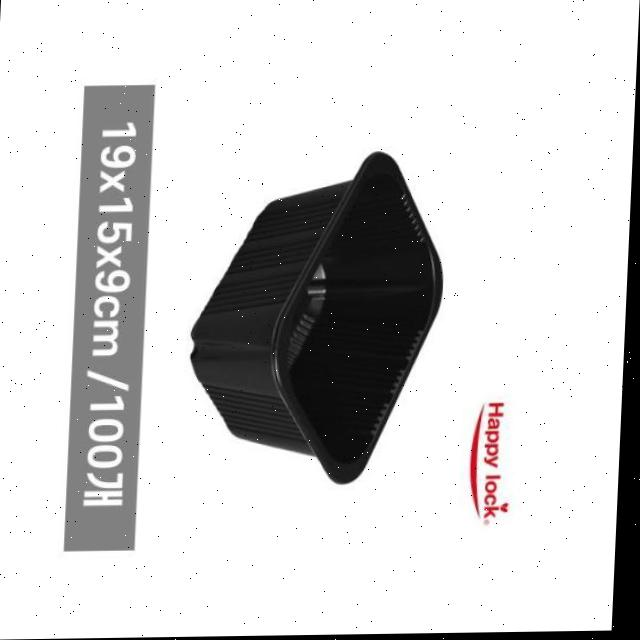disposable: (165, 129, 446, 501)
